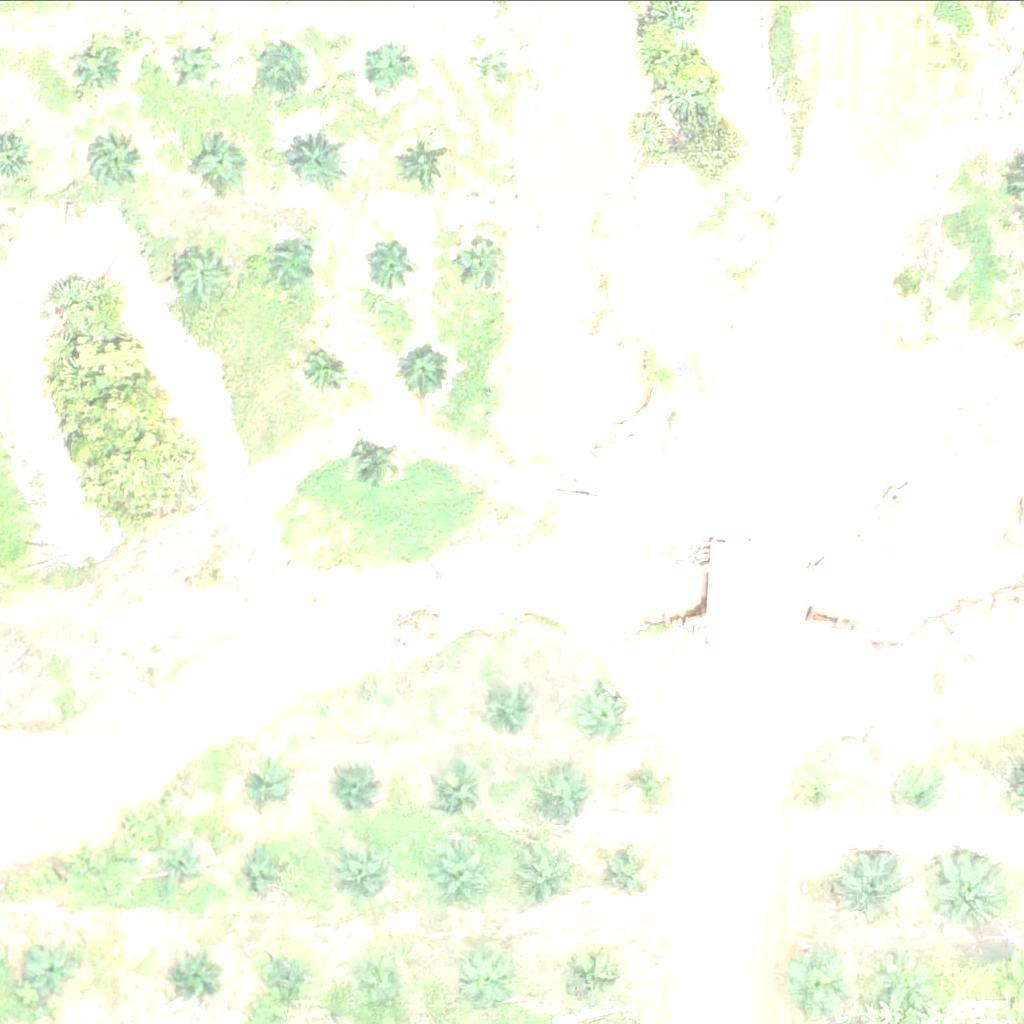Kelapa_Sawit: (832, 850, 908, 925), (929, 850, 1005, 925), (359, 958, 422, 1021), (335, 843, 398, 906), (432, 845, 495, 908), (782, 949, 845, 1012), (528, 758, 591, 821), (513, 844, 576, 907), (291, 129, 354, 192), (878, 944, 941, 1006), (465, 949, 528, 1011), (563, 944, 626, 1006), (423, 759, 486, 821), (62, 35, 125, 97), (598, 844, 649, 894), (619, 758, 670, 808), (358, 44, 409, 94), (259, 40, 310, 90), (196, 142, 247, 192), (181, 248, 232, 298), (264, 237, 315, 287), (362, 237, 413, 287), (401, 137, 452, 187), (334, 755, 384, 805), (165, 948, 215, 998), (160, 841, 210, 891), (29, 942, 79, 992), (245, 845, 295, 895), (244, 759, 294, 809), (86, 137, 136, 187), (402, 346, 452, 396), (585, 687, 635, 737), (480, 677, 530, 727), (793, 765, 843, 815), (900, 769, 950, 819), (463, 235, 513, 285), (298, 343, 348, 393), (354, 434, 404, 484), (269, 951, 319, 1001), (67, 845, 105, 883), (175, 47, 213, 84), (478, 43, 503, 68)
